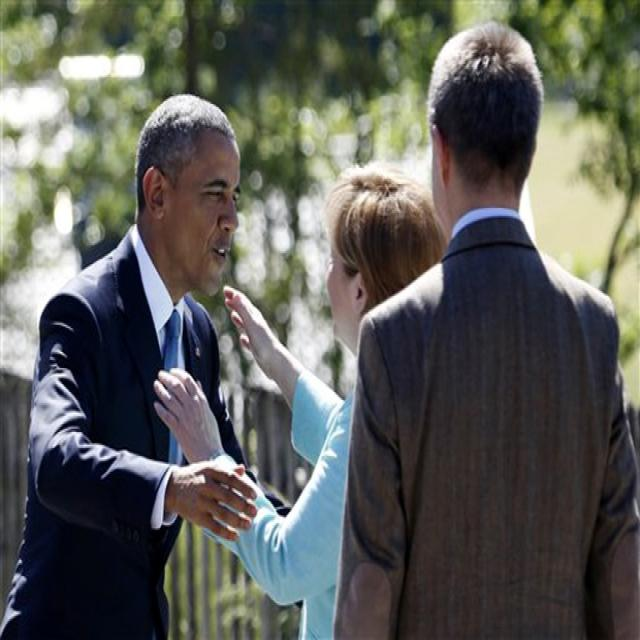body: (321, 16, 639, 638), (0, 91, 305, 640), (150, 158, 449, 640)
